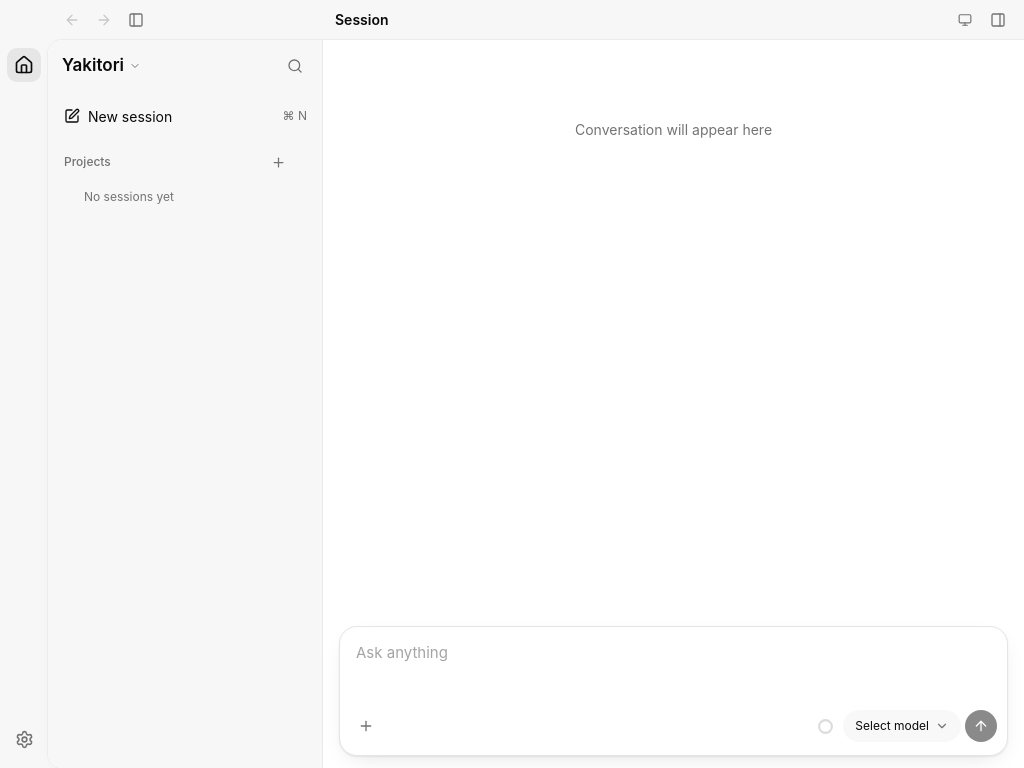
Test case: app shell › makes session telemetry available from the conversation header
The width and height of the screenshot is (1024, 768).
Step 1. Click the button named "Session context" → click(965, 20), box [950, 7, 980, 33]
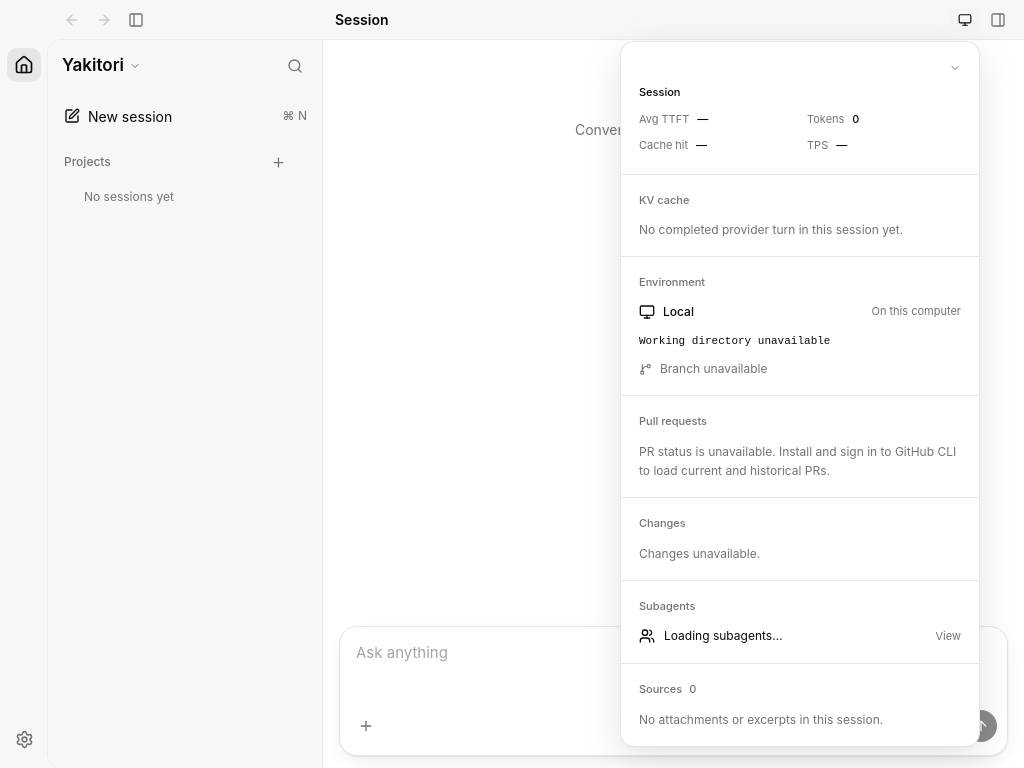
expect the heading named "Session telemetry" shows "Avg TTFT": met
expect the heading named "Session telemetry" shows "Tokens": met
expect the heading named "Session telemetry" shows "Cache hit": met
Step 2. Click the heading named "Session telemetry" → click(660, 92), box [633, 55, 967, 160]
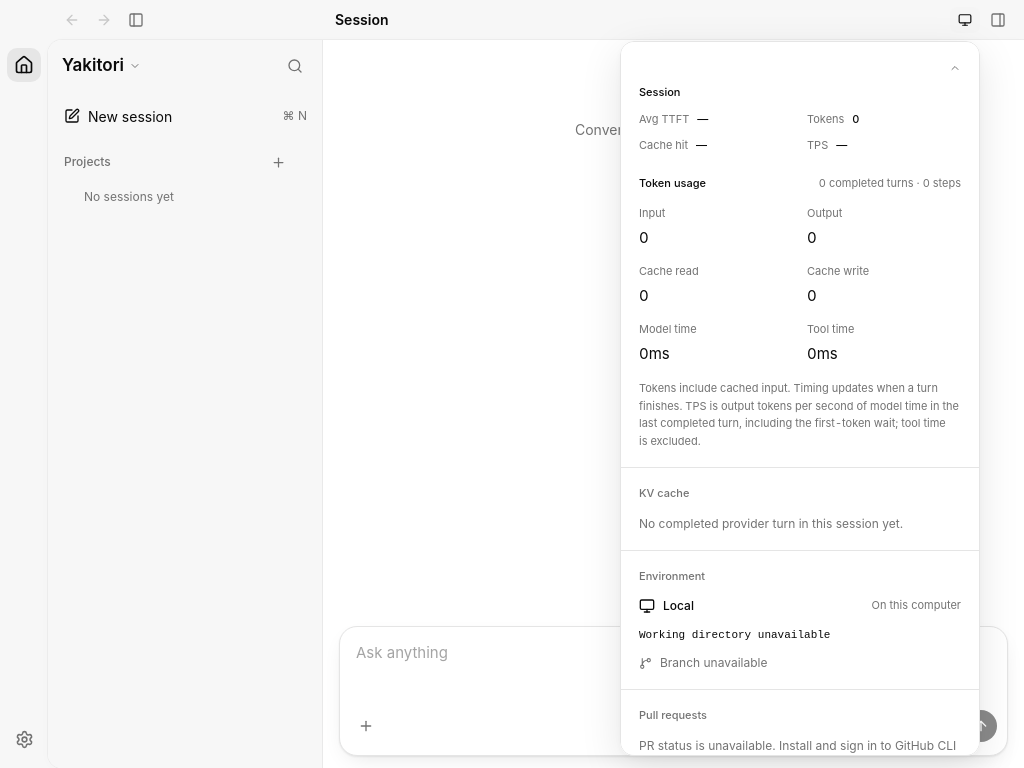
expect the element named "Session metrics" is shown: met, box [639, 156, 961, 450]
